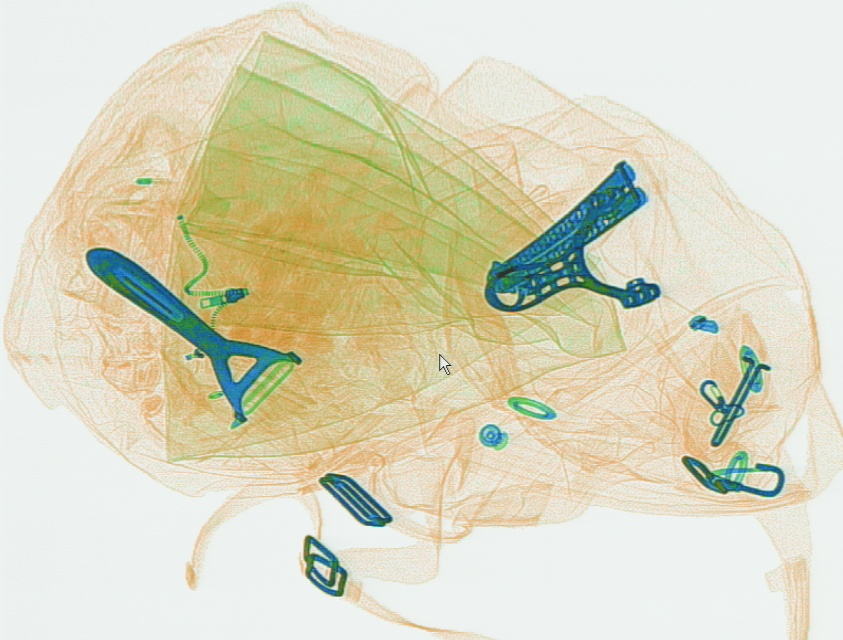knife: (488, 158, 648, 302)
slingshot: (481, 186, 661, 313)
